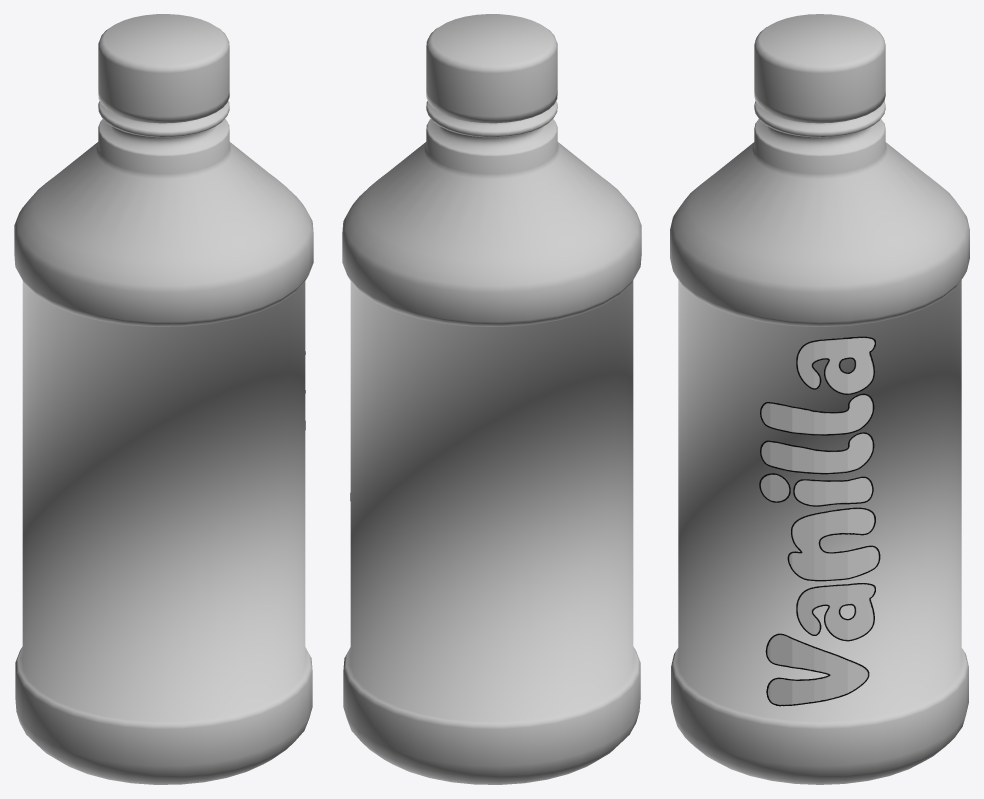
Rendered from vanilla.fbx.
The picture shows the model from 3 angles, left to right: view 1: azimuth 30°, elevation 25°; view 2: azimuth 150°, elevation 25°; view 3: azimuth 270°, elevation 25°; orthographic projection.
Parts seen in each view (by area): view 1: VannilaEssence; view 2: VannilaEssence; view 3: VannilaEssence.
Part boxes in pixels (x1,y1,x2,y2): VannilaEssence: [14, 14, 313, 784]; VannilaEssence: [342, 14, 641, 784]; VannilaEssence: [670, 14, 969, 784].
Size of the model in its own units: 3.12 by 8.03 by 3.12.
